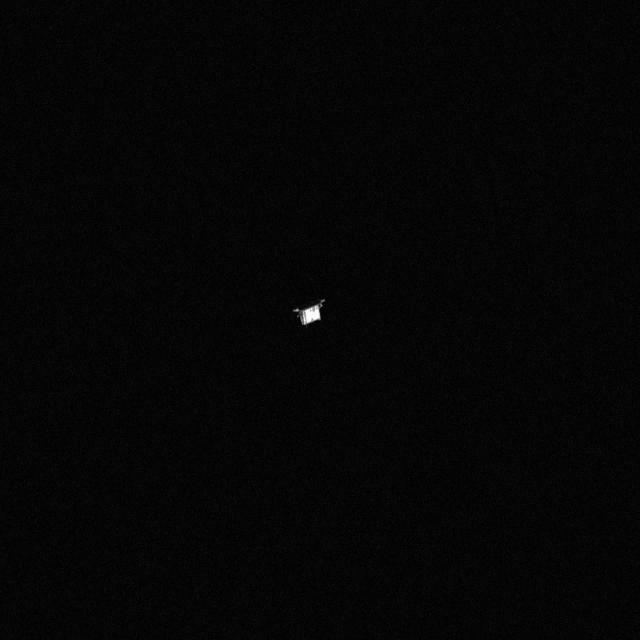medium_debris: (290, 296, 338, 328)
